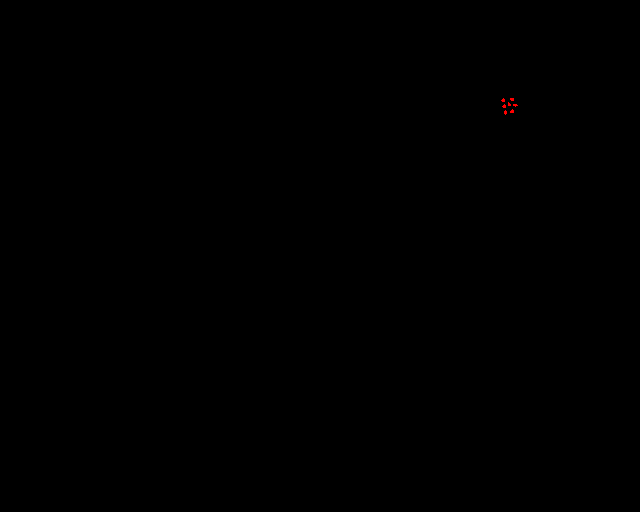Target: (501, 98, 505, 102), (502, 104, 506, 108), (510, 109, 514, 113), (513, 104, 518, 107), (504, 110, 507, 115), (510, 98, 514, 101), (508, 102, 511, 106)
